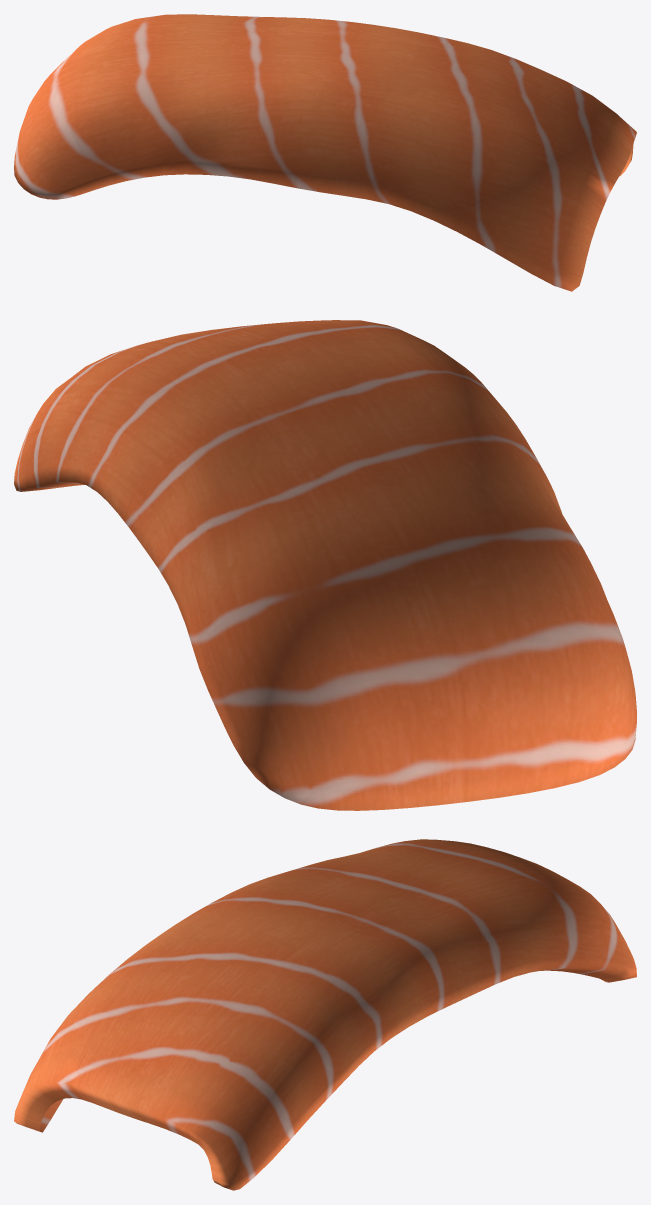
File: salmon.obj
The picture shows the model from 3 angles, top to bottom: view 1: azimuth 30°, elevation 25°; view 2: azimuth 150°, elevation 25°; view 3: azimuth 270°, elevation 25°; orthographic projection. The views are drawn at different scales.
Parts seen in each view (by area): view 1: obj9; view 2: obj9; view 3: obj9.
Part boxes in pixels (left/top/right/bottom): obj9: left=14, top=14, right=636, bottom=291; obj9: left=14, top=320, right=636, bottom=810; obj9: left=14, top=839, right=636, bottom=1190.
Bounding box in the file's own units: 0.0656 × 0.0206 × 0.0662.
1 material, 1 textured.
